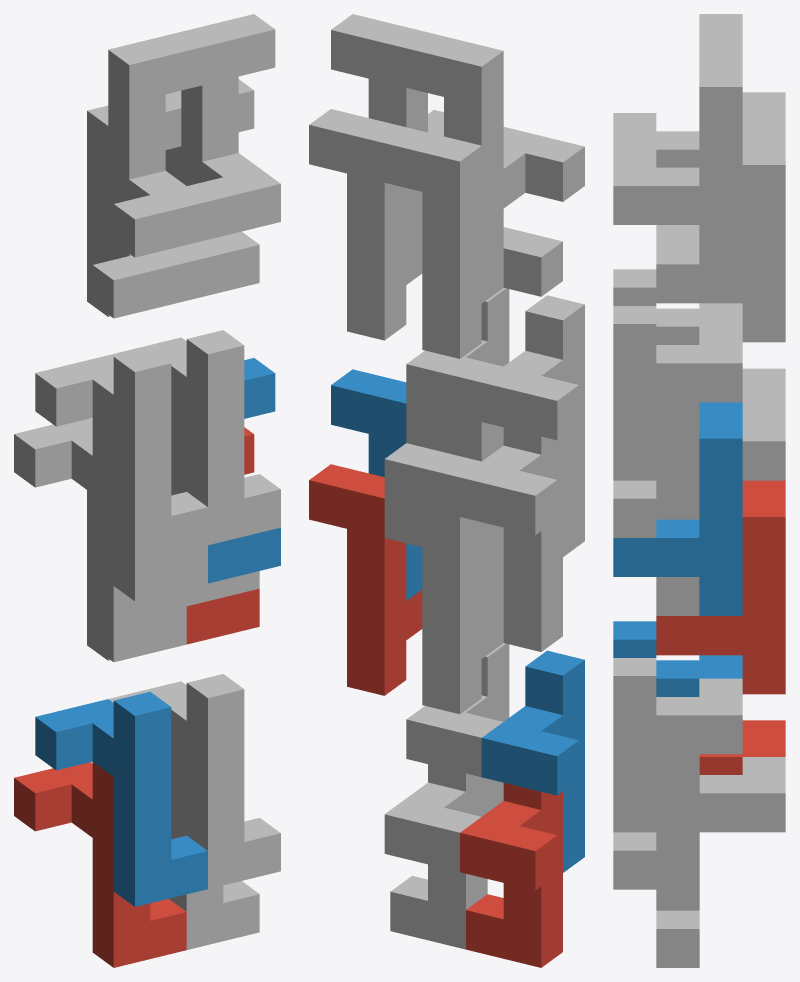
File: tiling.obj
3 views of the same model, side by side, from view 1: azimuth 30°, elevation 25°; view 2: azimuth 150°, elevation 25°; view 3: azimuth 270°, elevation 25° (orthographic). The views are drawn at different scales.
Parts seen in each view (by area): view 1: copy_1_domain_4, copy_1_domain_2, copy_2_domain_4, copy_1_domain_6, copy_1_domain_8, copy_2_domain_8, copy_1_domain_1, copy_1_domain_3, copy_2_domain_3, copy_2_domain_7, copy_1_domain_5, copy_2_domain_1 (+4 smaller); view 2: copy_2_domain_3, copy_2_domain_1, copy_2_domain_4, copy_1_domain_1, copy_2_domain_7, copy_2_domain_5, copy_1_domain_3, copy_1_domain_5, copy_1_domain_2, copy_1_domain_4, copy_2_domain_8, copy_1_domain_6 (+4 smaller); view 3: copy_1_domain_6, copy_1_domain_8, copy_2_domain_8, copy_1_domain_5, copy_2_domain_7, copy_2_domain_6, copy_2_domain_5, copy_1_domain_7, copy_2_domain_4, copy_1_domain_2, copy_1_domain_4, copy_1_domain_1 (+2 smaller).
Boxes of the visible parts, x1,y1,x2,y2 form: copy_1_domain_4: (35, 348, 207, 562); copy_1_domain_2: (35, 691, 207, 906); copy_2_domain_4: (108, 32, 207, 257); copy_1_domain_6: (108, 674, 280, 888); copy_1_domain_8: (108, 330, 280, 545); copy_2_domain_8: (181, 14, 280, 239); copy_1_domain_1: (14, 762, 186, 967); copy_1_domain_3: (14, 418, 186, 623); copy_2_domain_3: (87, 97, 186, 318); copy_2_domain_7: (165, 79, 259, 300); copy_1_domain_5: (90, 748, 259, 949); copy_2_domain_1: (87, 490, 186, 662); copy_2_domain_3: (384, 127, 562, 358); copy_2_domain_1: (384, 498, 562, 714); copy_2_domain_4: (406, 32, 584, 263); copy_1_domain_1: (460, 783, 562, 967); copy_2_domain_7: (309, 109, 422, 340); copy_2_domain_5: (309, 464, 422, 695); copy_1_domain_3: (460, 427, 562, 612); copy_1_domain_5: (384, 764, 487, 949); copy_1_domain_2: (481, 650, 584, 872); copy_1_domain_4: (481, 295, 584, 517); copy_2_domain_8: (331, 14, 508, 245); copy_1_domain_6: (406, 643, 509, 811); copy_1_domain_6: (613, 658, 742, 889); copy_1_domain_8: (613, 306, 742, 537); copy_2_domain_8: (613, 50, 742, 264); copy_1_domain_5: (656, 754, 785, 967); copy_2_domain_7: (656, 128, 785, 342); copy_2_domain_6: (613, 402, 742, 615); copy_2_domain_5: (656, 480, 785, 694); copy_1_domain_7: (656, 402, 785, 615); copy_2_domain_4: (613, 14, 742, 167); copy_1_domain_2: (613, 621, 742, 696); copy_1_domain_4: (613, 269, 742, 344); copy_1_domain_1: (699, 720, 785, 774).
Bounding box in the file's own units: 6 × 23 × 4.
